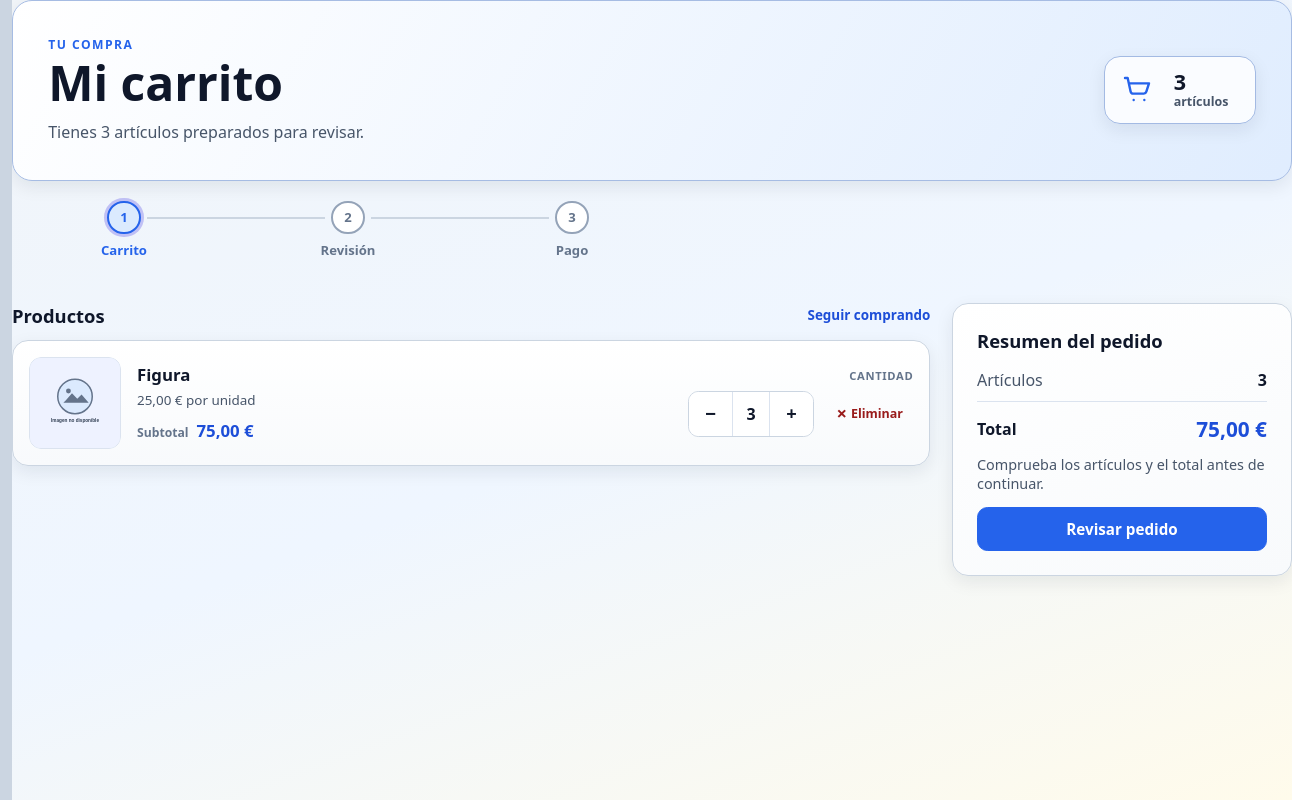
Scenario: Deshacer eliminaciones del carrito › no ofrece deshacer cuando falla la eliminación
The image size is (1292, 800).
Click the button with aria-label "Eliminar Figura del carrito" at (870, 414), box x1=826 y1=392 x2=913 y2=436
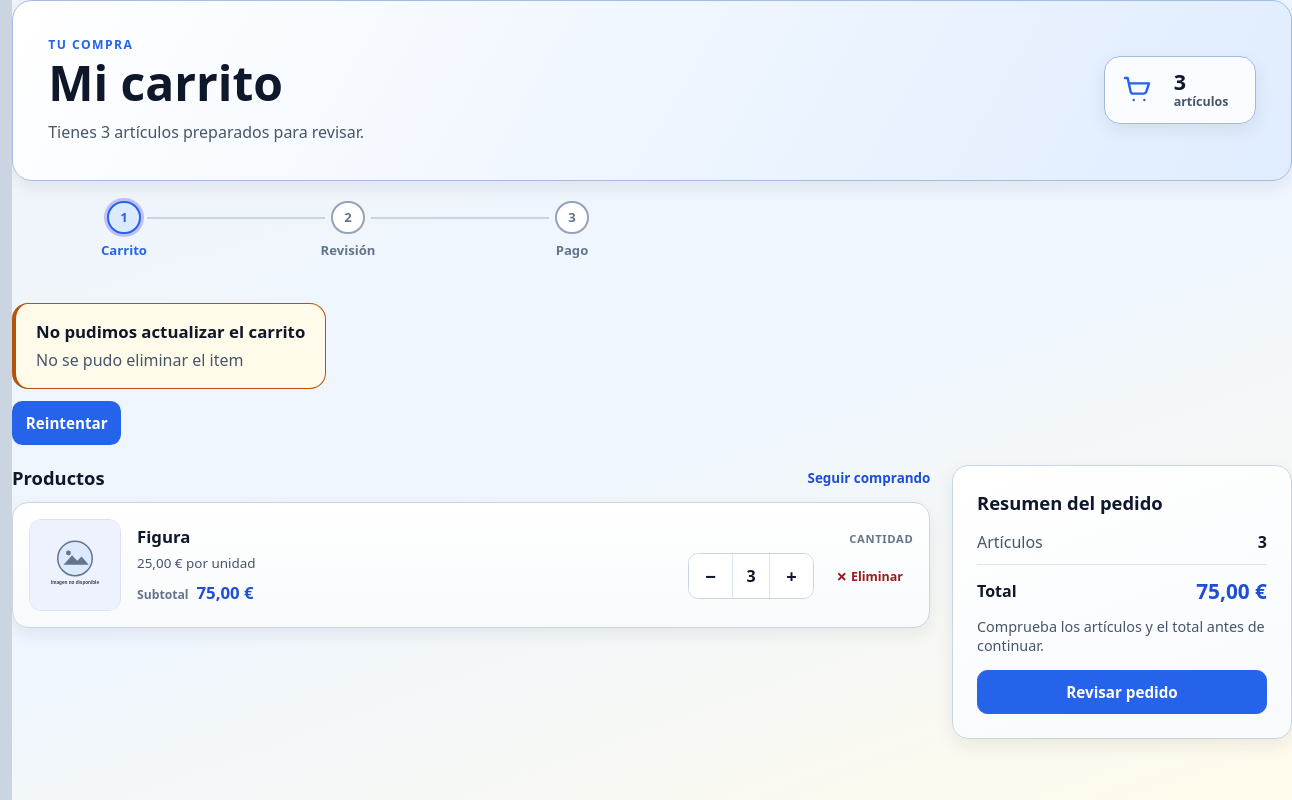
Check: the heading "No pudimos actualizar el carrito" is shown, box x1=36 y1=320 x2=305 y2=342
